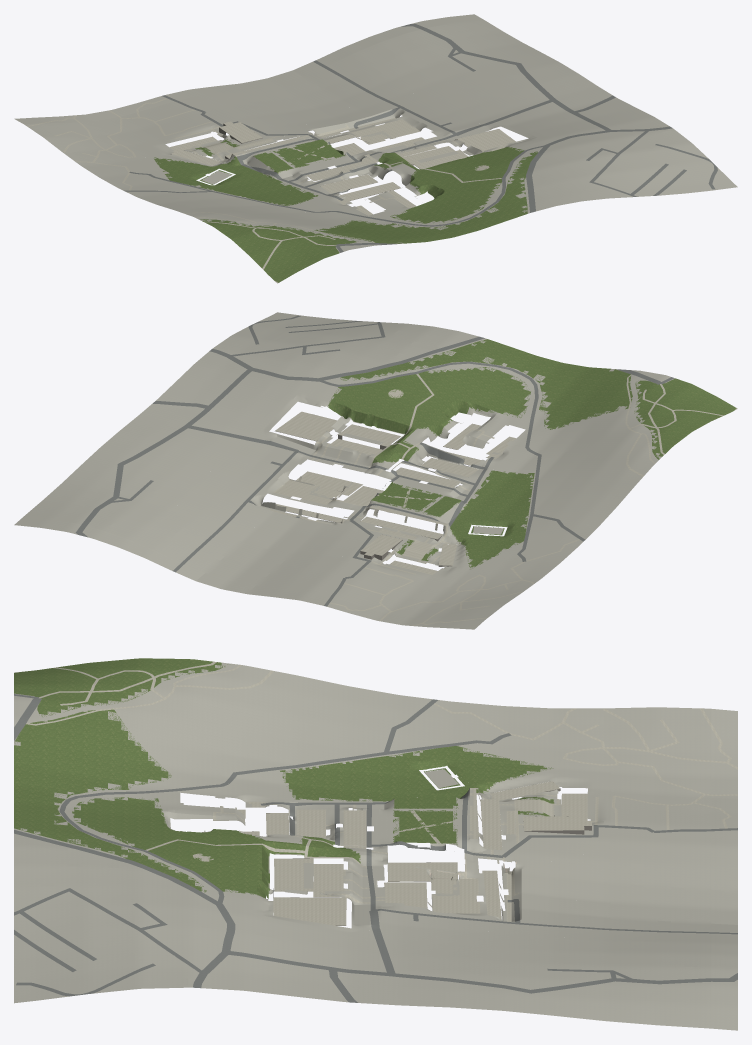
The picture shows the model from 3 angles, top to bottom: view 1: azimuth 30°, elevation 25°; view 2: azimuth 150°, elevation 25°; view 3: azimuth 270°, elevation 25°; orthographic projection. The views are drawn at different scales.
Parts seen in each view (by area): view 1: hansung-base, hansung-grass, hansung-paving, hansung-asphalt, hansung-wood, hansung-grass-overlay; view 2: hansung-base, hansung-grass, hansung-paving, hansung-asphalt, hansung-wood, hansung-grass-overlay; view 3: hansung-base, hansung-grass, hansung-paving, hansung-asphalt, hansung-wood, hansung-grass-overlay, hansung-pitchTurf, hansung-wood-overlay.
Boxes of the visible parts, left/top/right/bottom form: hansung-base: left=14, top=14, right=737, bottom=252; hansung-grass: left=155, top=139, right=524, bottom=282; hansung-paving: left=27, top=98, right=515, bottom=283; hansung-asphalt: left=124, top=24, right=717, bottom=252; hansung-wood: left=314, top=152, right=537, bottom=243; hansung-grass-overlay: left=154, top=139, right=521, bottom=239; hansung-base: left=14, top=312, right=674, bottom=629; hansung-grass: left=328, top=367, right=736, bottom=567; hansung-paving: left=260, top=374, right=737, bottom=625; hansung-asphalt: left=75, top=315, right=674, bottom=606; hansung-wood: left=341, top=339, right=632, bottom=428; hansung-grass-overlay: left=328, top=367, right=659, bottom=569; hansung-base: left=14, top=662, right=737, bottom=1030; hansung-grass: left=14, top=658, right=554, bottom=898; hansung-paving: left=14, top=661, right=737, bottom=925; hansung-asphalt: left=14, top=694, right=737, bottom=1002; hansung-wood: left=14, top=709, right=201, bottom=891; hansung-grass-overlay: left=41, top=664, right=553, bottom=895; hansung-pitchTurf: left=393, top=797, right=457, bottom=808; hansung-wood-overlay: left=14, top=711, right=206, bottom=892.
Size of the model in its own units: 436 by 59.17 by 432.
13 materials, 12 textured.
